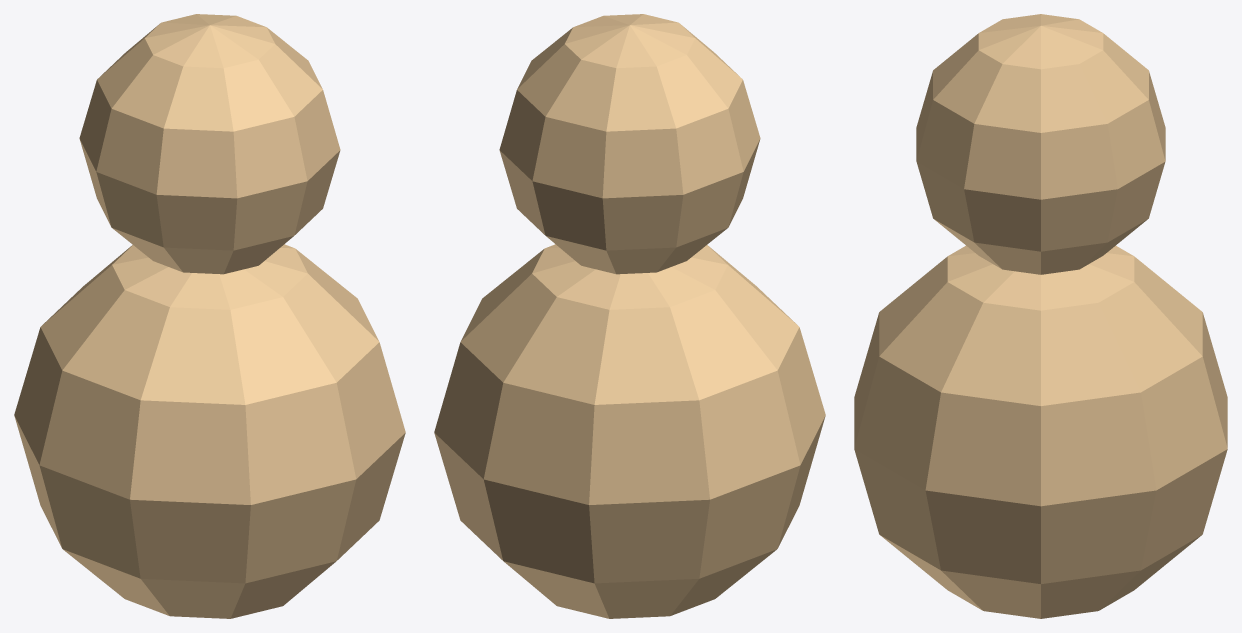
Rendered from simbolo_5_nieve.glb.
3 views of the same model, side by side, from view 1: azimuth 30°, elevation 25°; view 2: azimuth 150°, elevation 25°; view 3: azimuth 270°, elevation 25° (orthographic).
Parts seen in each view (by area): view 1: simbolo_5_nieve; view 2: simbolo_5_nieve; view 3: simbolo_5_nieve.
Part boxes in pixels (<box>): simbolo_5_nieve: <box>14,14,405,618</box>; simbolo_5_nieve: <box>434,14,825,618</box>; simbolo_5_nieve: <box>854,14,1227,618</box>.
Bounding box in the file's own units: 0.6 × 0.97 × 0.5706.
